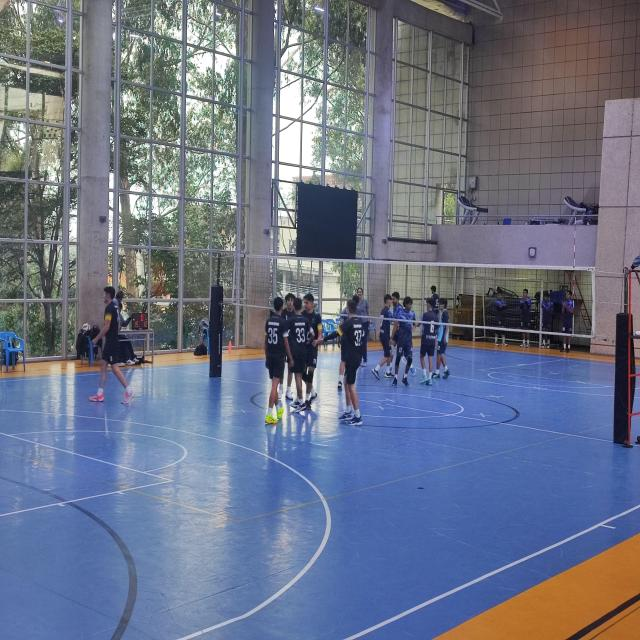volleyball: (82, 323, 90, 333)
